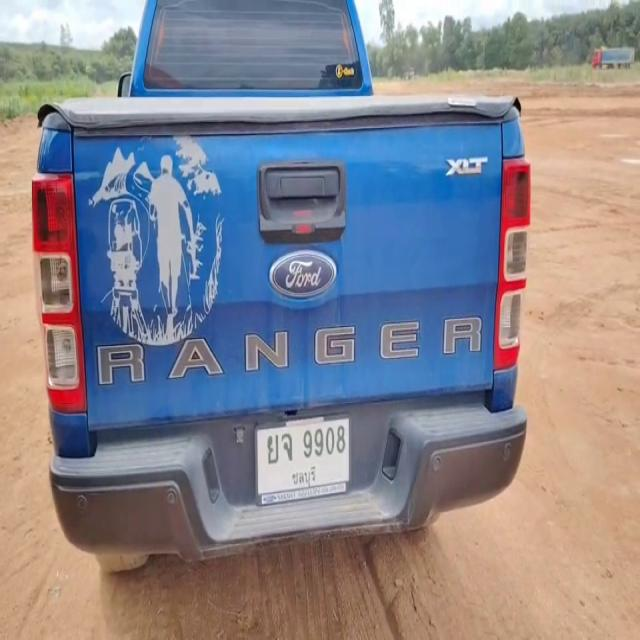Digit: (302, 422, 347, 462)
Licenseplate: (253, 409, 354, 508)
Provincename: (289, 464, 321, 490)
Thaichar: (265, 431, 294, 465)
